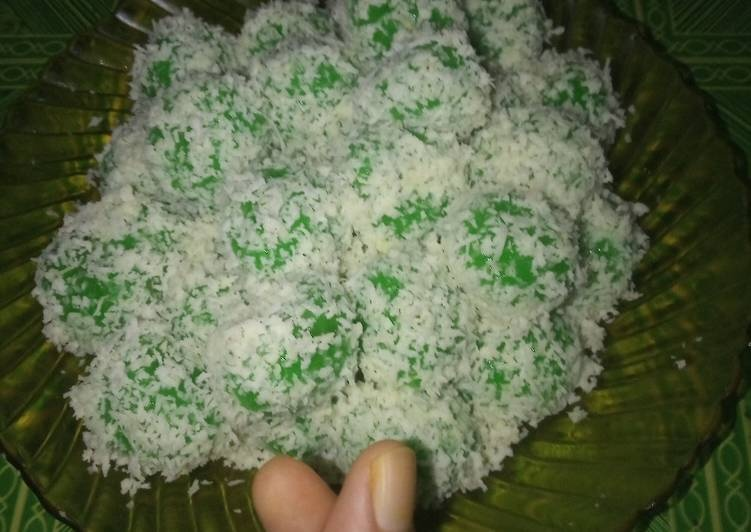klepon: (427, 190, 589, 338)
